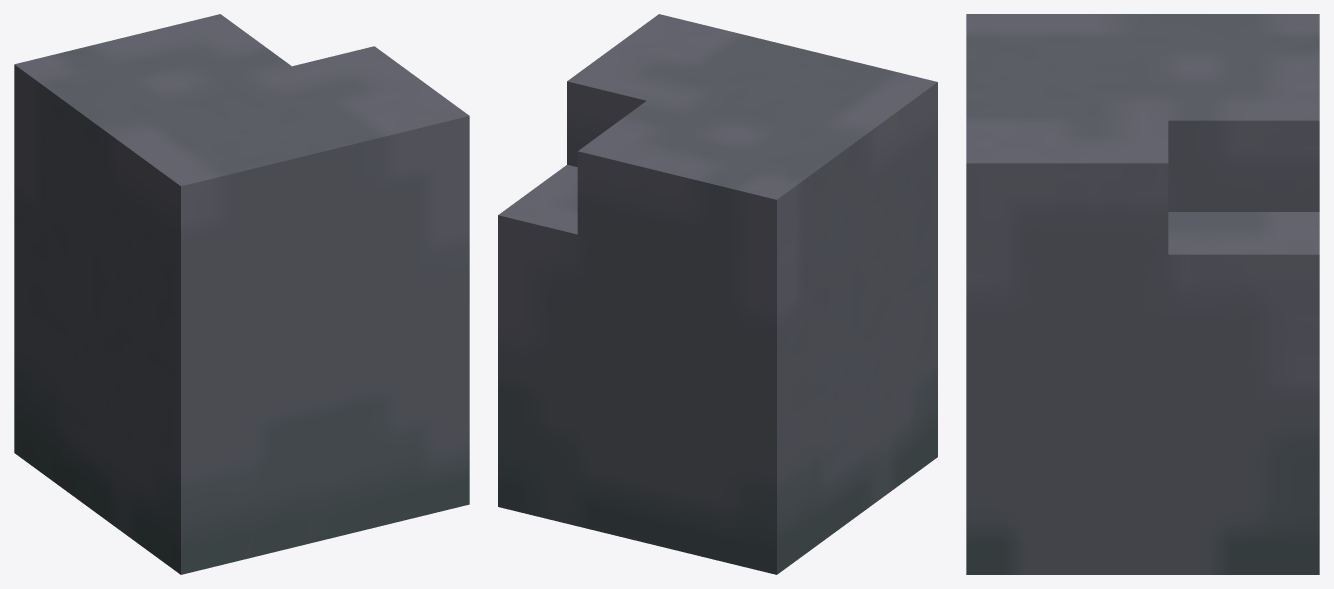
Rendered from Rock_7.fbx.
3 views of the same model, side by side, from view 1: azimuth 30°, elevation 25°; view 2: azimuth 150°, elevation 25°; view 3: azimuth 270°, elevation 25° (orthographic). The views are drawn at different scales.
Visible parts, largest first — view 1: Rock_7; view 2: Rock_7; view 3: Rock_7.
Boxes of the visible parts, x1,y1,x2,y2 form: Rock_7: (14,14,469,574); Rock_7: (498,14,937,574); Rock_7: (966,14,1319,574).
Bounding box in the file's own units: 35 × 45 × 35.
